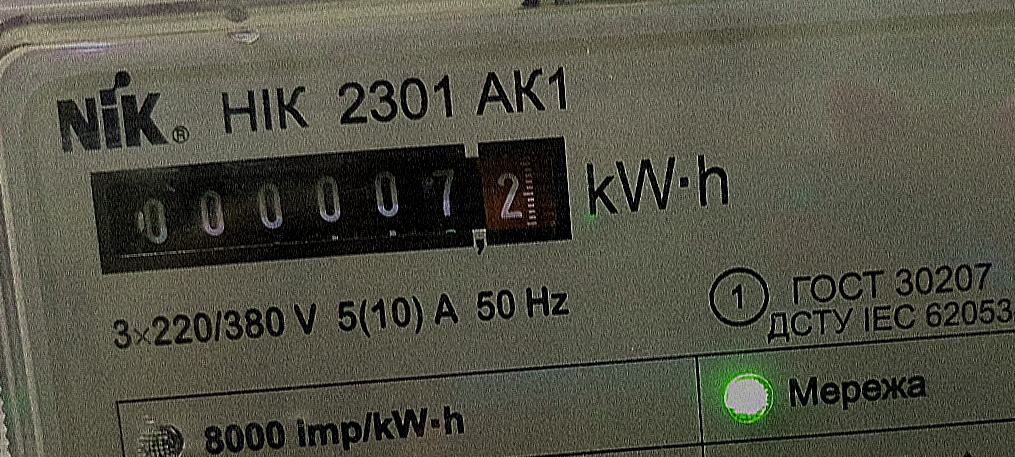0: (193, 184, 231, 238), (368, 166, 404, 221), (253, 177, 288, 231), (311, 170, 345, 225), (137, 193, 172, 246)
2: (492, 168, 527, 221)
7: (427, 163, 461, 220)
screen: (71, 115, 594, 295)
